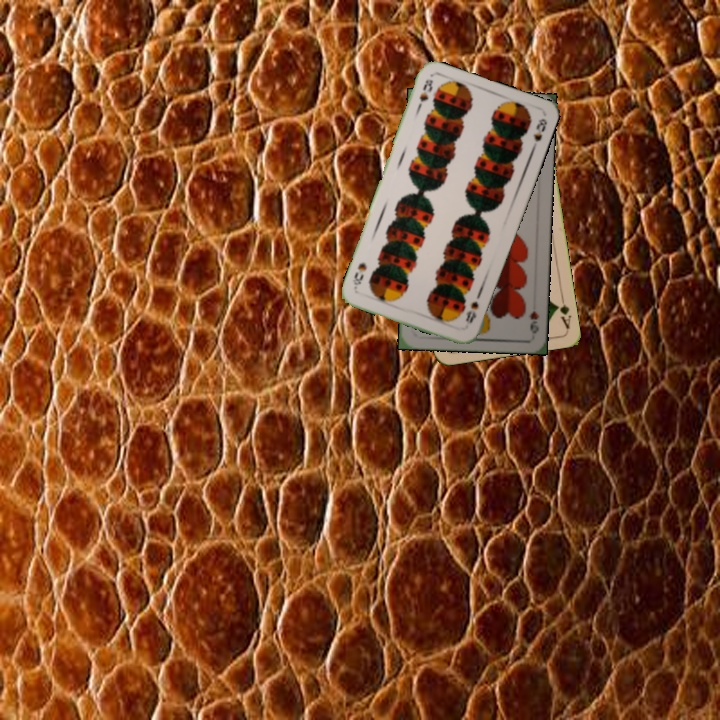GA: (552, 291, 574, 331)
H9: (525, 307, 541, 336)
S8: (413, 75, 436, 113), (462, 297, 481, 326)
